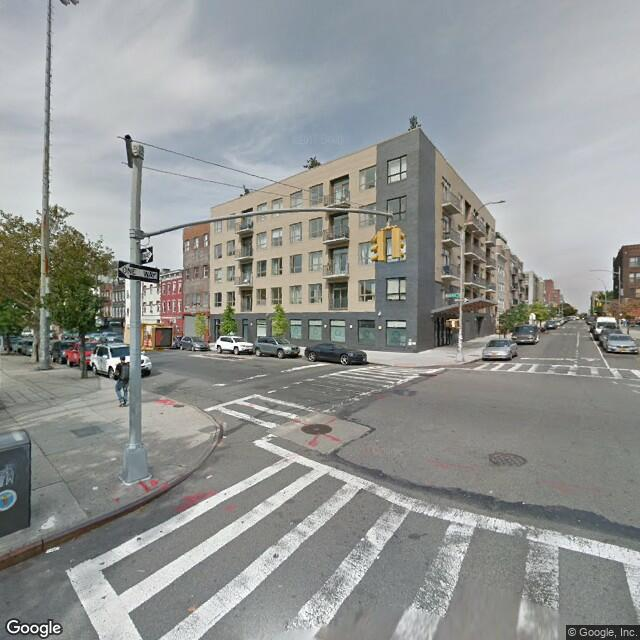litter: (43, 541, 66, 556)
